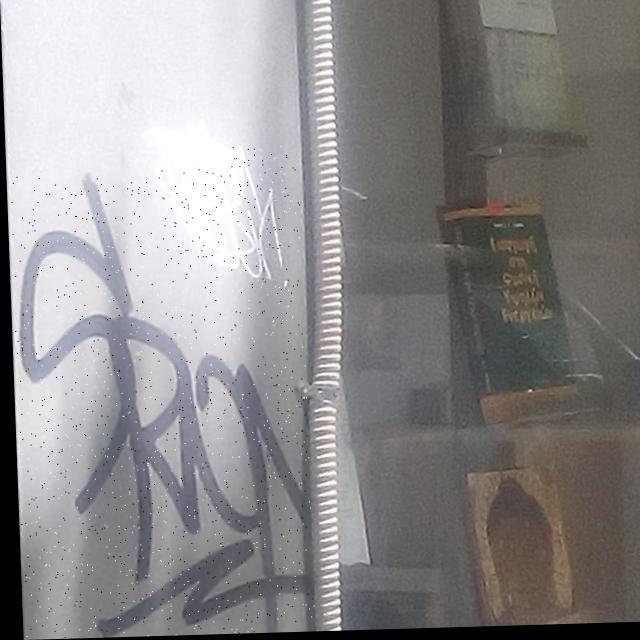-: (7, 168, 311, 640), (228, 148, 290, 292)
